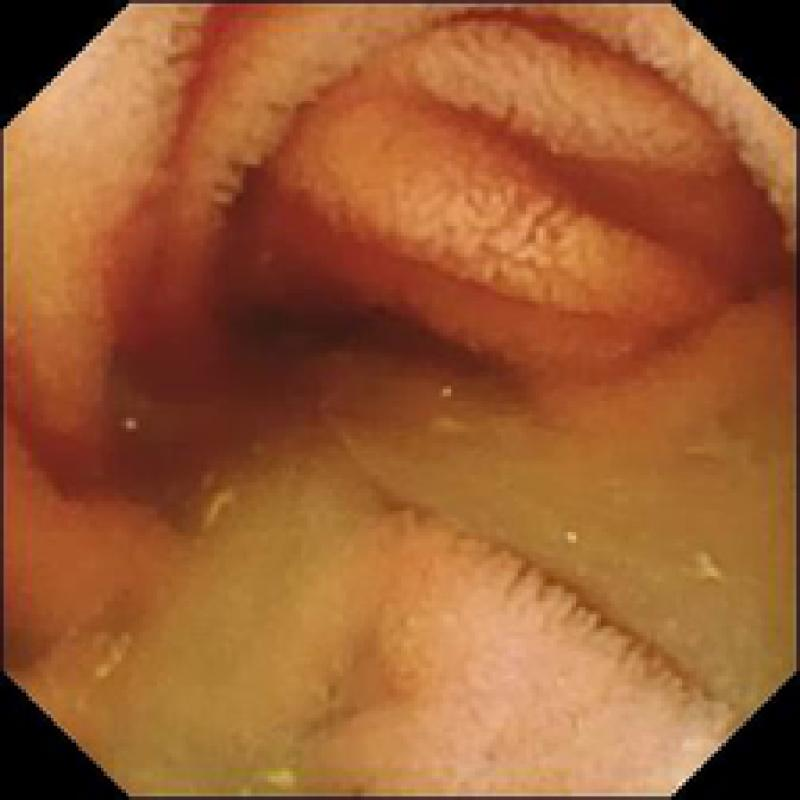bleeding: (32, 0, 797, 500)
